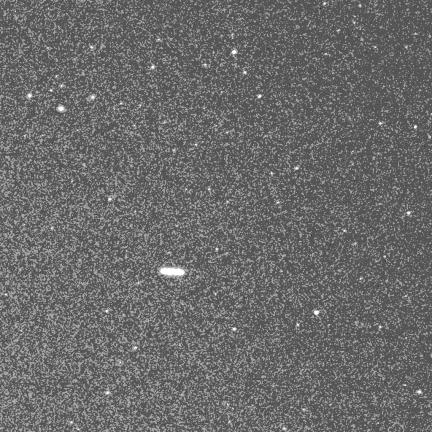blob: (57, 106, 65, 112), (232, 49, 238, 55), (416, 389, 422, 394), (27, 93, 32, 98), (314, 310, 319, 315), (108, 198, 113, 202), (105, 309, 109, 314), (414, 125, 418, 130), (232, 327, 237, 331), (428, 135, 432, 139), (91, 95, 95, 99), (407, 211, 411, 215), (151, 65, 155, 69), (203, 63, 207, 67), (60, 84, 64, 88), (50, 89, 54, 93), (295, 166, 299, 170), (133, 346, 137, 350), (277, 201, 281, 205), (257, 95, 262, 98), (405, 46, 409, 49), (90, 46, 94, 49), (243, 71, 247, 74), (70, 421, 74, 424), (157, 38, 161, 41), (106, 391, 110, 394), (379, 326, 382, 329), (337, 29, 340, 32), (379, 122, 382, 125)
